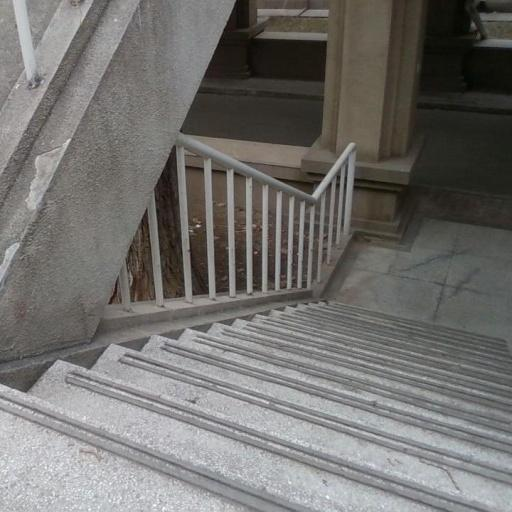stairs: (0, 303, 511, 511)
